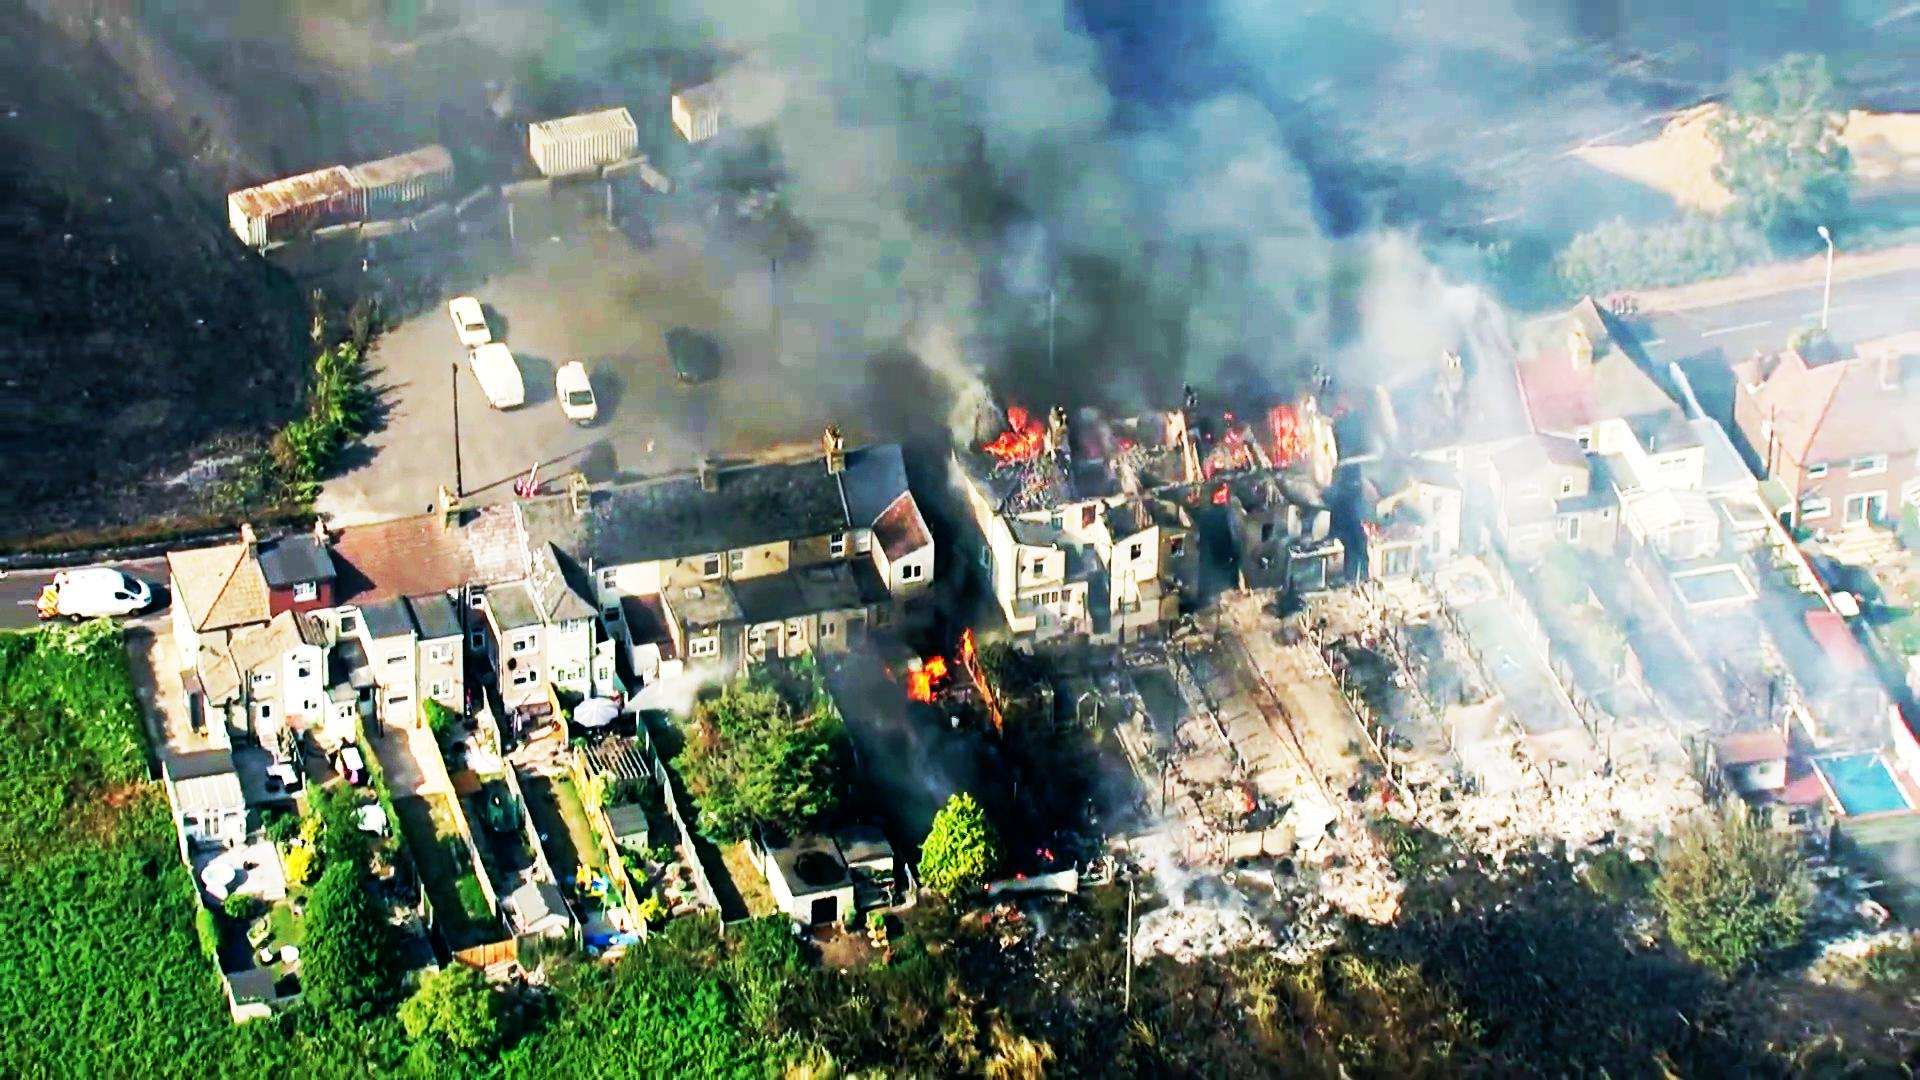fire: (903, 630, 963, 724)
